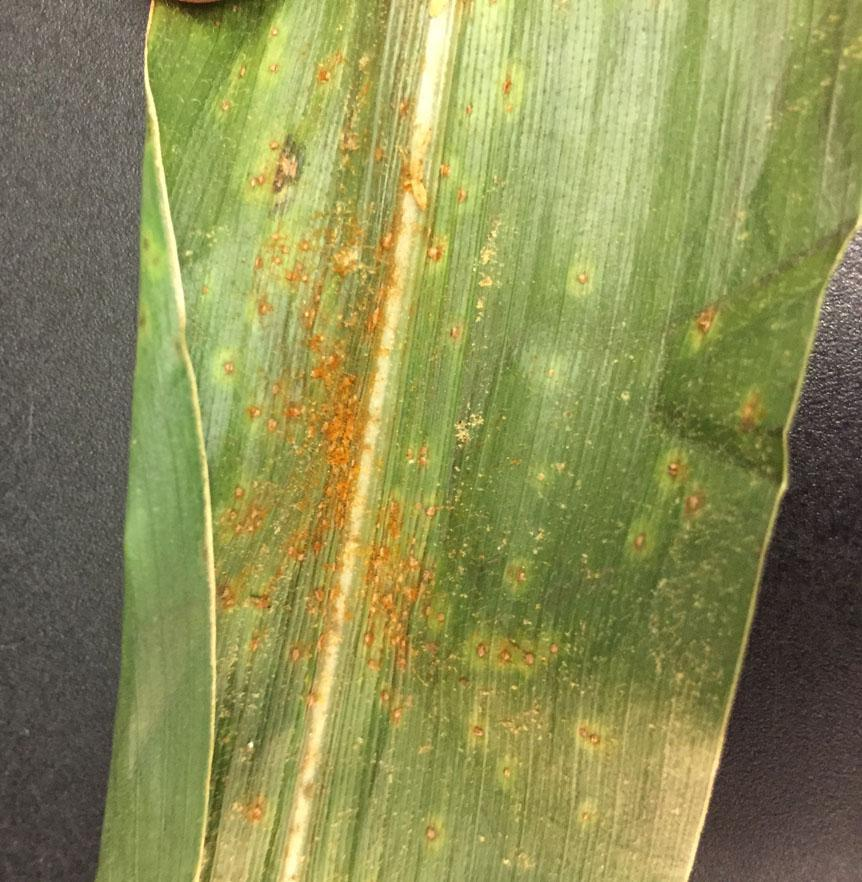Corn_Common_Rust: (39, 0, 675, 882), (649, 239, 832, 532), (782, 2, 862, 132), (654, 399, 670, 410)
